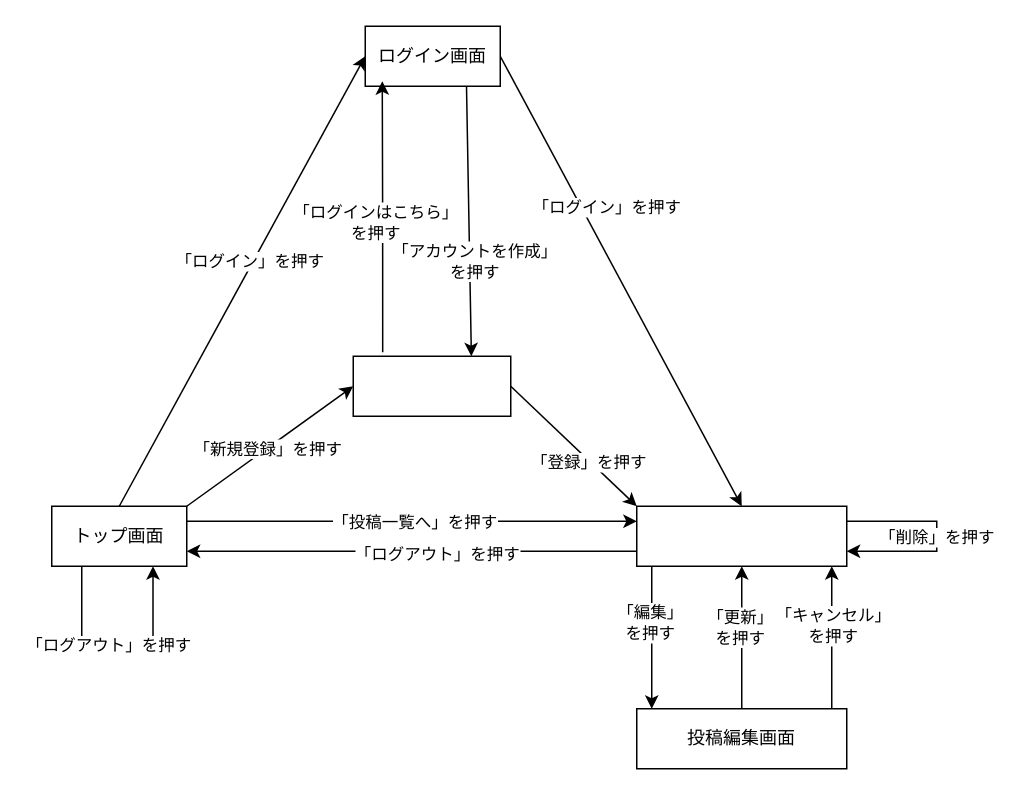
Image size: 1019x795. Some labels were removed from this diagram. Here are the shapes that lost their labels. From the top down, the centre of each, then its label:
At (431,385): "ユーザー登録画面".
At (741,535): "投稿一覧画面".
